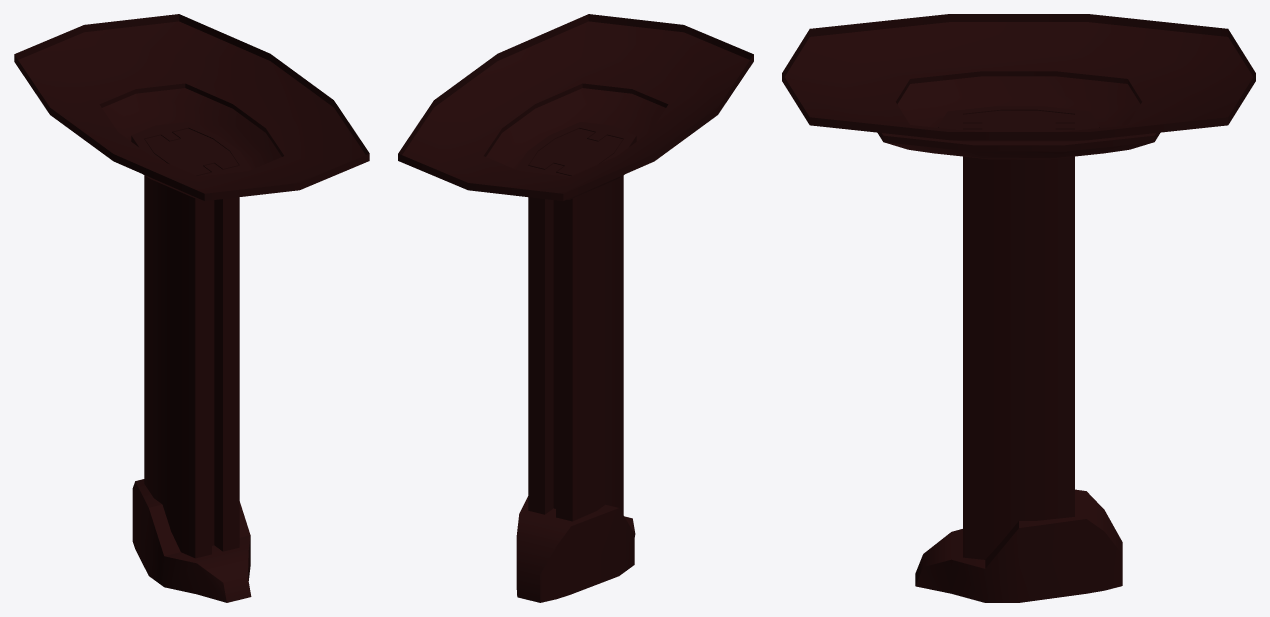
The model's file is SM_MedicalPillars_E.fbx.
3 views of the same model, side by side, from view 1: azimuth 30°, elevation 25°; view 2: azimuth 150°, elevation 25°; view 3: azimuth 270°, elevation 25° (orthographic). The views are drawn at different scales.
Parts seen in each view (by area): view 1: SM_MedicalPillars_E; view 2: SM_MedicalPillars_E; view 3: SM_MedicalPillars_E.
Part boxes in pixels (x1,y1,x2,y2): SM_MedicalPillars_E: (14,14,369,602); SM_MedicalPillars_E: (398,14,753,602); SM_MedicalPillars_E: (782,14,1255,602).
Size of the model in its own units: 300 by 508 by 600.
